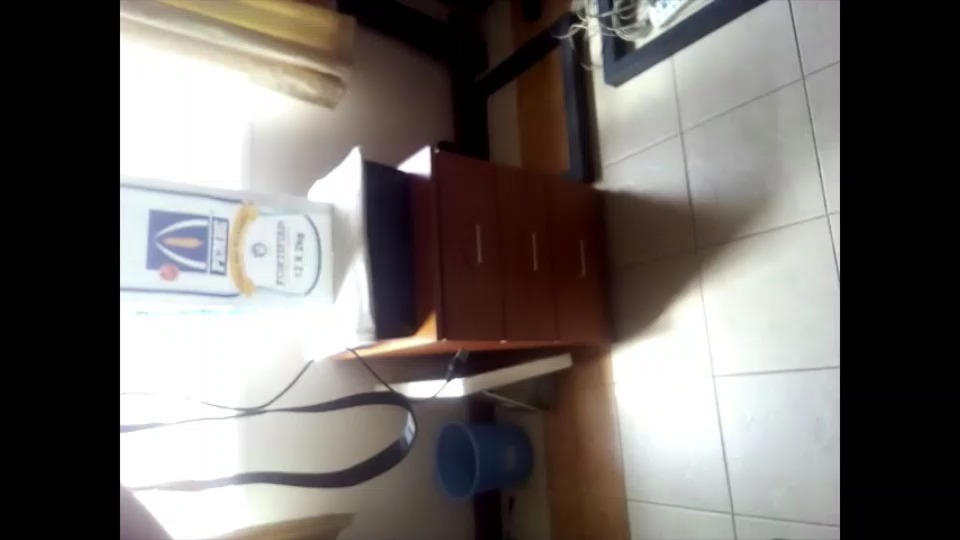wheat_flour_blue_label: (120, 176, 329, 361)
